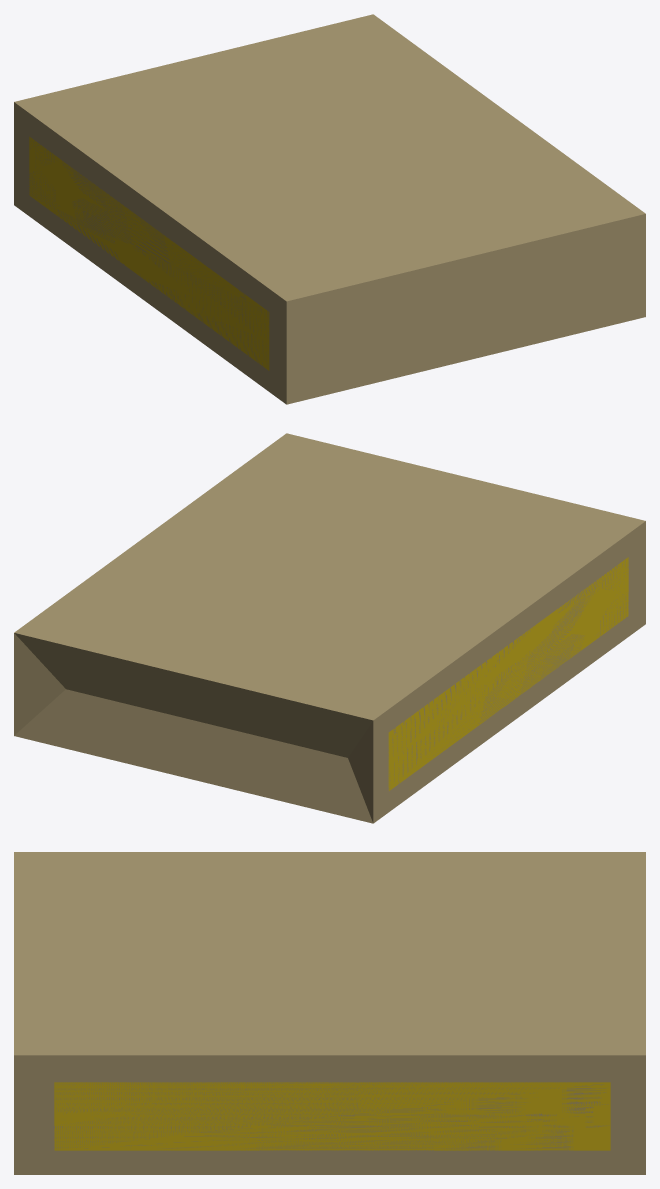
3 views of the same model, one above another, from view 1: azimuth 30°, elevation 25°; view 2: azimuth 150°, elevation 25°; view 3: azimuth 270°, elevation 25° (orthographic). The views are drawn at different scales.
Visible parts, largest first — view 1: cicipopo cereal box closed; view 2: cicipopo cereal box closed; view 3: cicipopo cereal box closed.
Part boxes in pixels (<box>): cicipopo cereal box closed: <box>14,14,645,404</box>; cicipopo cereal box closed: <box>14,433,645,823</box>; cicipopo cereal box closed: <box>14,852,645,1174</box>.
Bounding box in the file's own units: 12.75 × 3.5 × 16.75.
